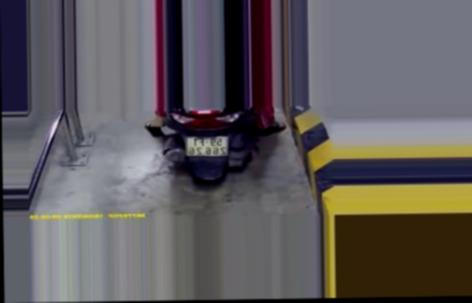License_Plate: (183, 132, 232, 158)
